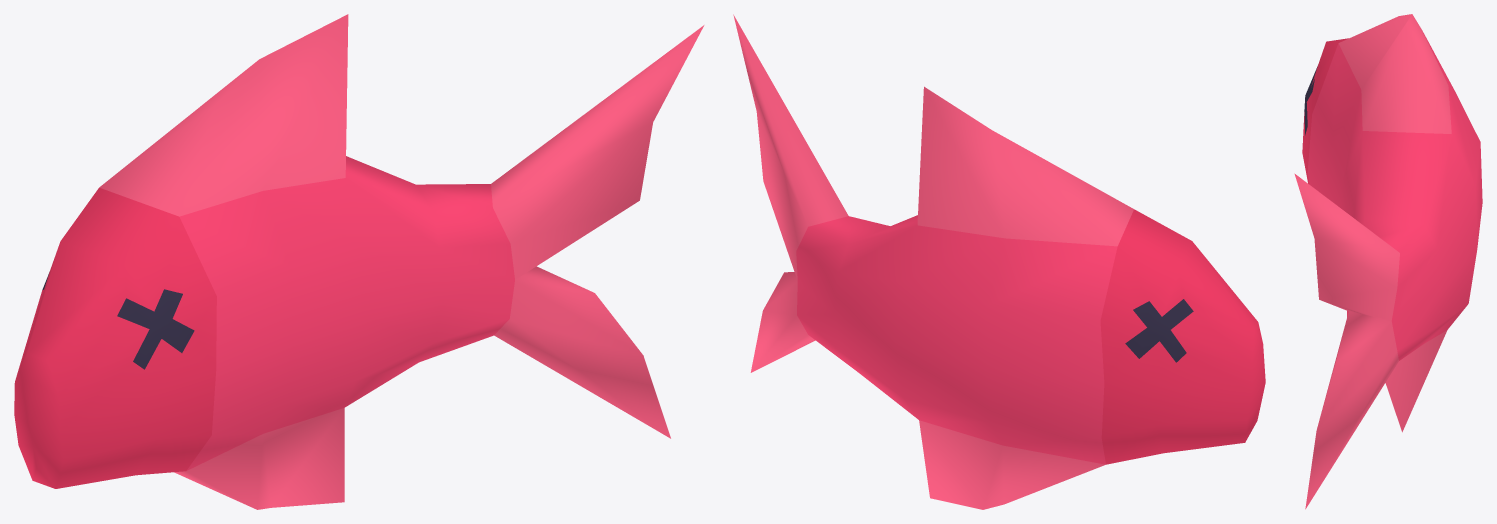
The model's file is fish.glb.
3 views of the same model, side by side, from view 1: azimuth 30°, elevation 25°; view 2: azimuth 150°, elevation 25°; view 3: azimuth 270°, elevation 25° (orthographic). The views are drawn at different scales.
Parts seen in each view (by area): view 1: Object_2; view 2: Object_2; view 3: Object_2.
Part boxes in pixels (x1,y1,x2,y2): Object_2: [14, 14, 704, 509]; Object_2: [733, 14, 1265, 509]; Object_2: [1294, 14, 1482, 509].
Size of the model in its own units: 0.7477 by 0.5327 by 0.2219.
1 material, 1 textured.
